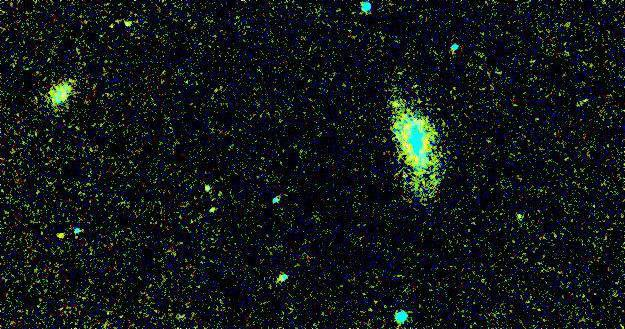star: (43, 222, 73, 252)
